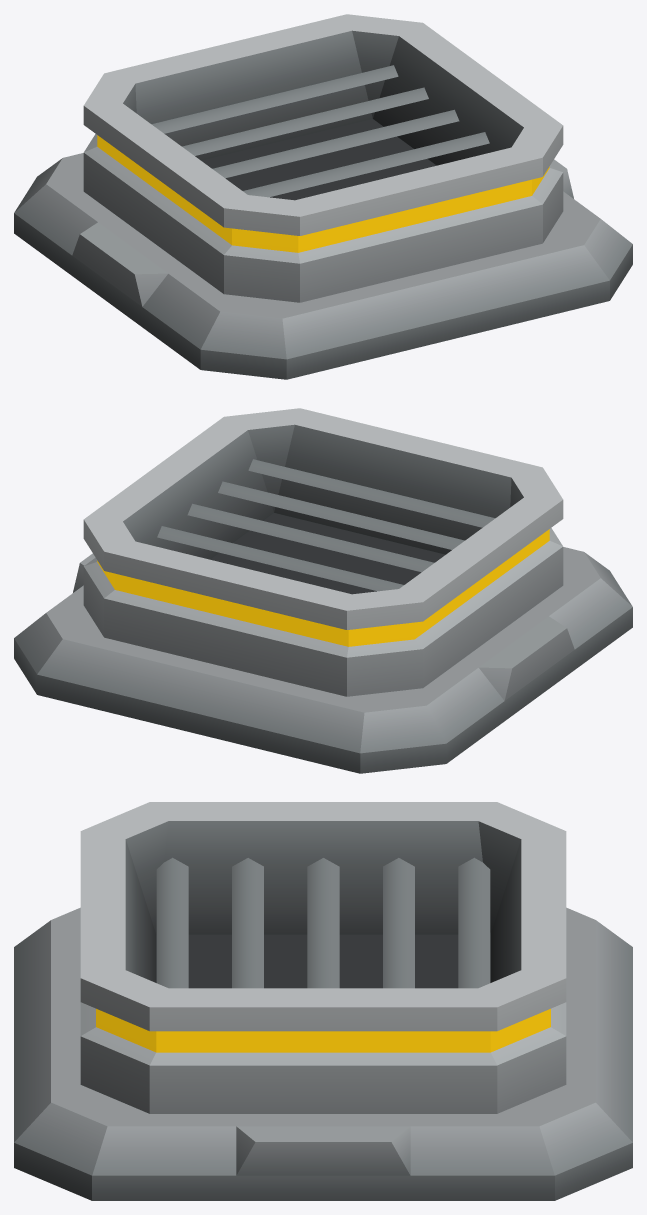
Rendered from Ventilation_001.glb.
3 views of the same model, one above another, from view 1: azimuth 30°, elevation 25°; view 2: azimuth 150°, elevation 25°; view 3: azimuth 270°, elevation 25° (orthographic). The views are drawn at different scales.
Parts seen in each view (by area): view 1: Ventilation_001; view 2: Ventilation_001; view 3: Ventilation_001.
Part boxes in pixels (x1,y1,x2,y2): Ventilation_001: (14,14,632,379); Ventilation_001: (14,408,632,773); Ventilation_001: (14,802,632,1200).
Bounding box in the file's own units: 1 × 0.295 × 1.
Materials: 2 (2 with a texture image).
